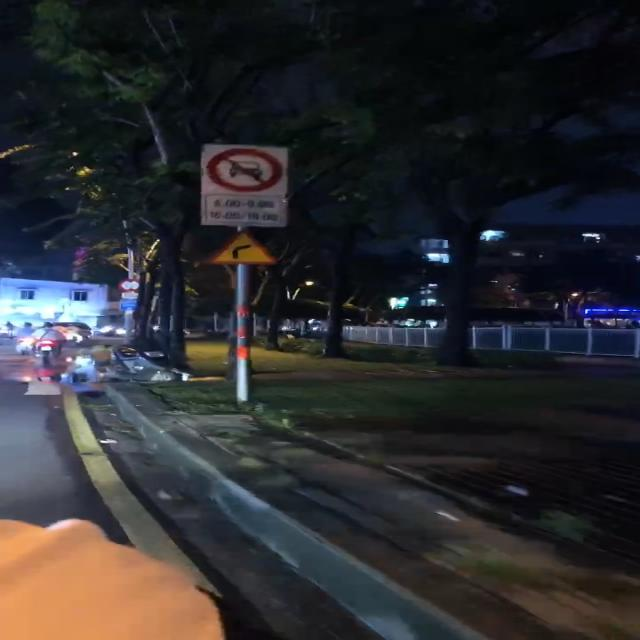Bien bao cam xe oto: (205, 147, 286, 200)
Bien bao cho ngoat nguy hiem: (203, 232, 284, 268)
